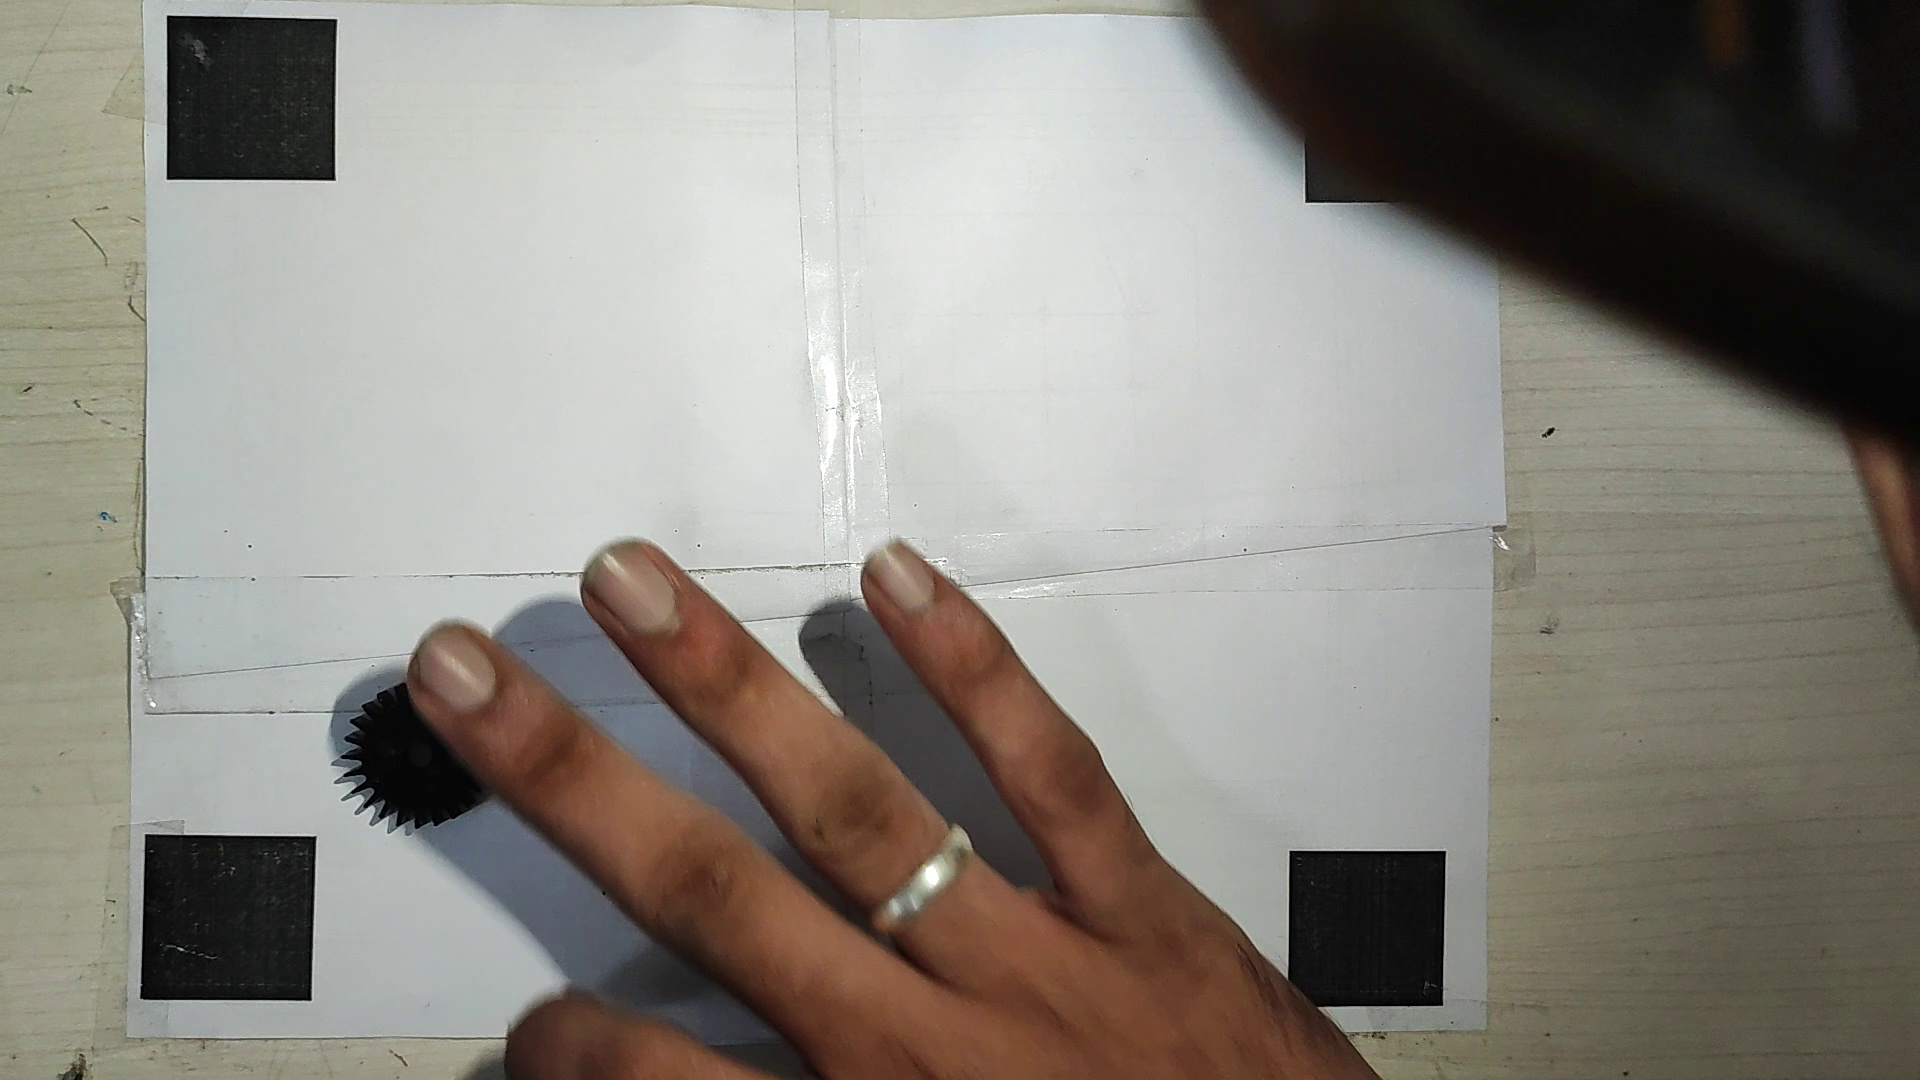Gear: (329, 683, 494, 834)
